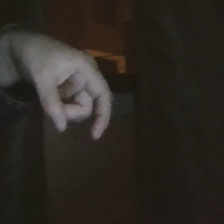Q: (7, 13, 118, 145)
